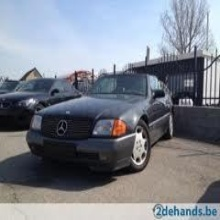no damage: (26, 72, 175, 170), (1, 76, 77, 126)
